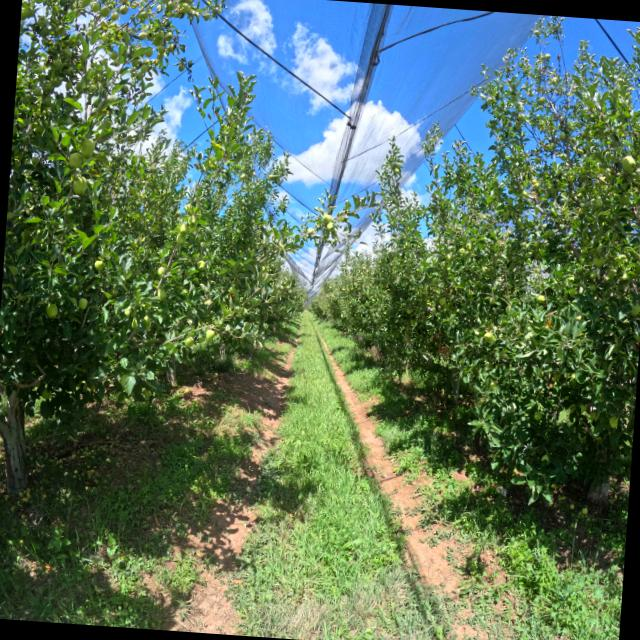-FireBlight-: (431, 325, 452, 359)
